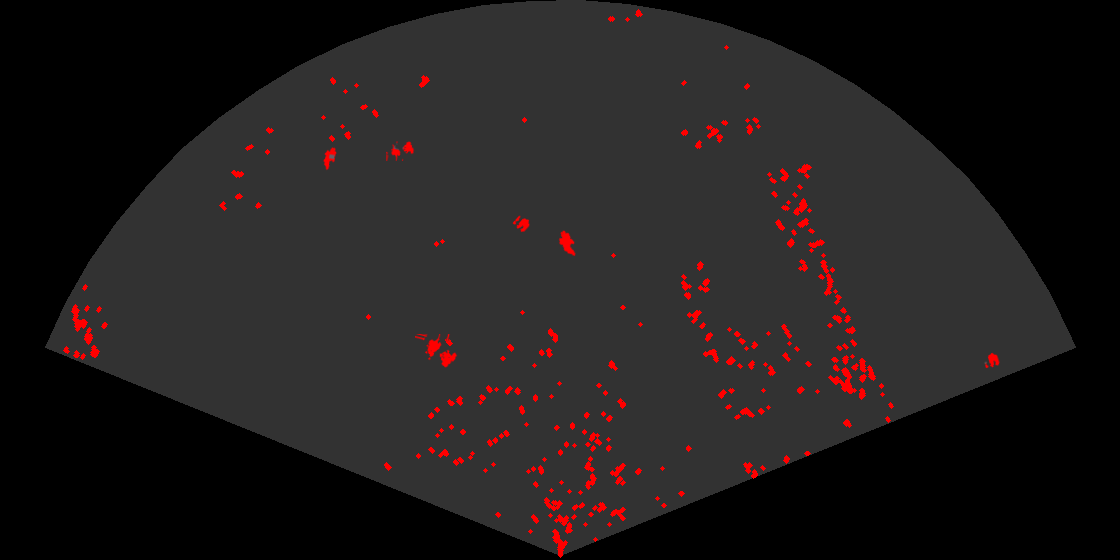AUV: (557, 229, 577, 258), (322, 146, 338, 172)
ball: (511, 214, 531, 234), (983, 351, 1001, 370)
cage: (415, 334, 459, 369), (386, 140, 416, 161)
